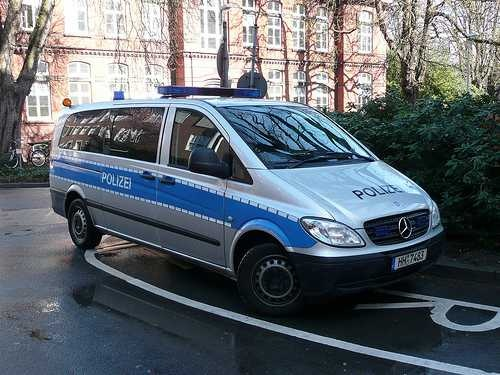Police Car: (30, 68, 448, 318)
